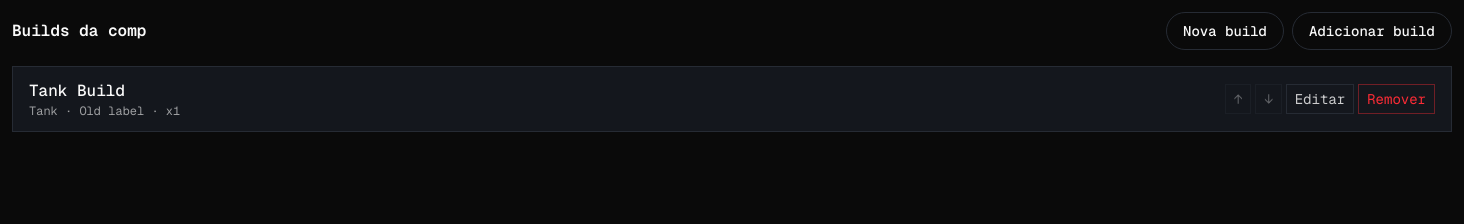
Test: CompBuildsManager (ACM-098) › AC#5 (error path): reverts label/count to the previous values and shows a retry banner when updateCompBuild fails
Click the button "Editar": (1320, 99) [1286,84,1354,114]
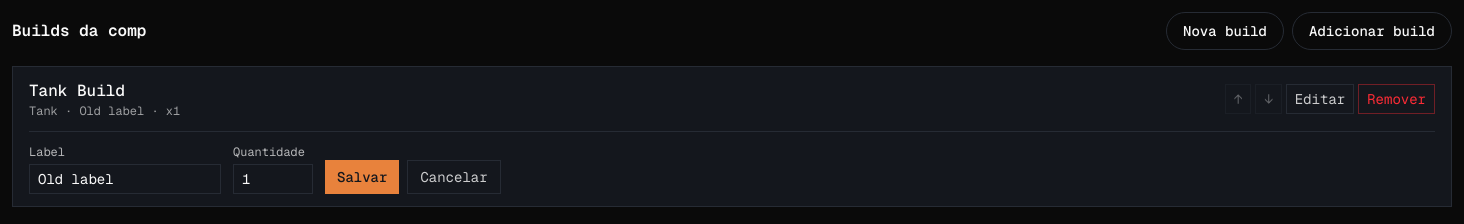
Replace the text in the field labelled "Label" with "New label": (125, 179) [29,164,221,194]
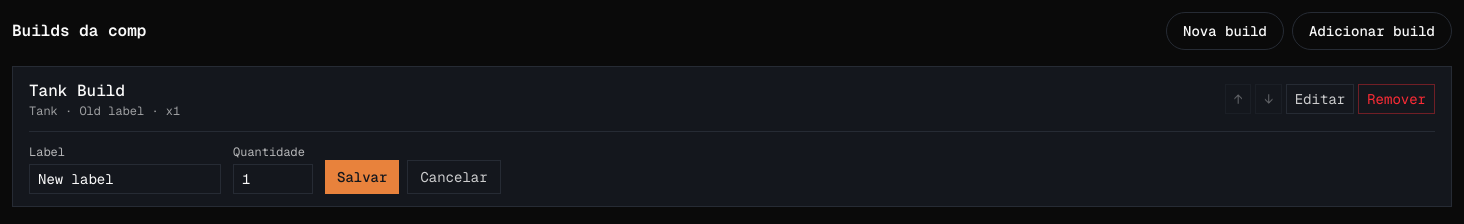
Replace the text in the number field labelled "Quantidade" with "5": (273, 179) [233,164,313,194]
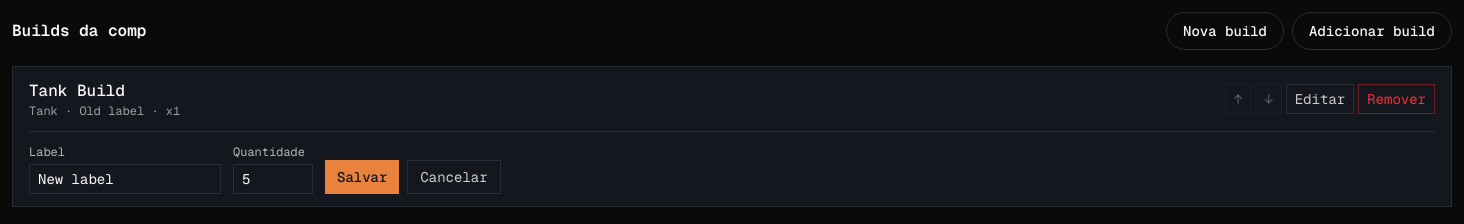
Click the button "Salvar": (362, 177) [325,160,399,194]
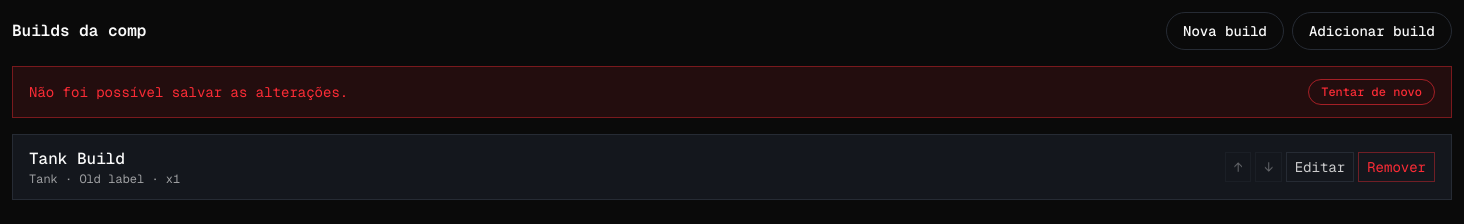
expect the text "Tank · Old label · x1" is shown: met, box [29,171,180,187]
expect the text "Não foi possível salvar as alterações." is shown: met, box [29,82,348,102]
expect the field "New label" is gone: met
